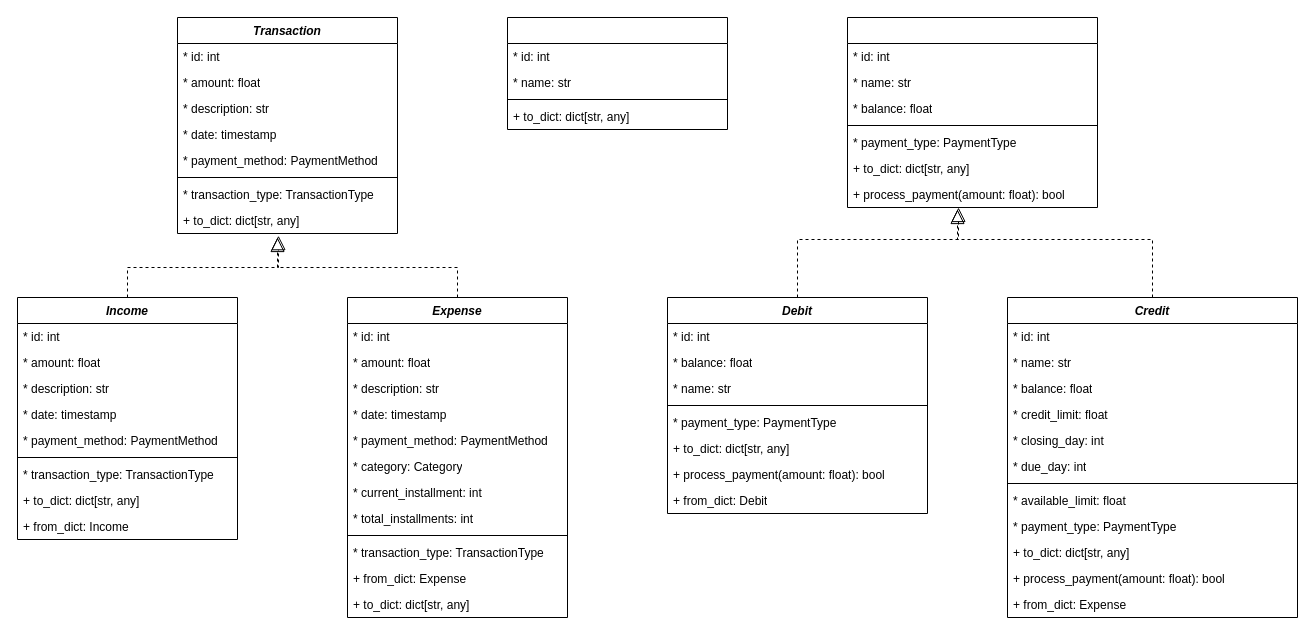
Some shapes in this 1315 by 638 pixel diagram are drawn without their labels. Here are the shapes that lost their labels. From the top down, the box of each, then its label:
(506, 16, 728, 130): Category
(846, 16, 1098, 208): PaymentMethod
